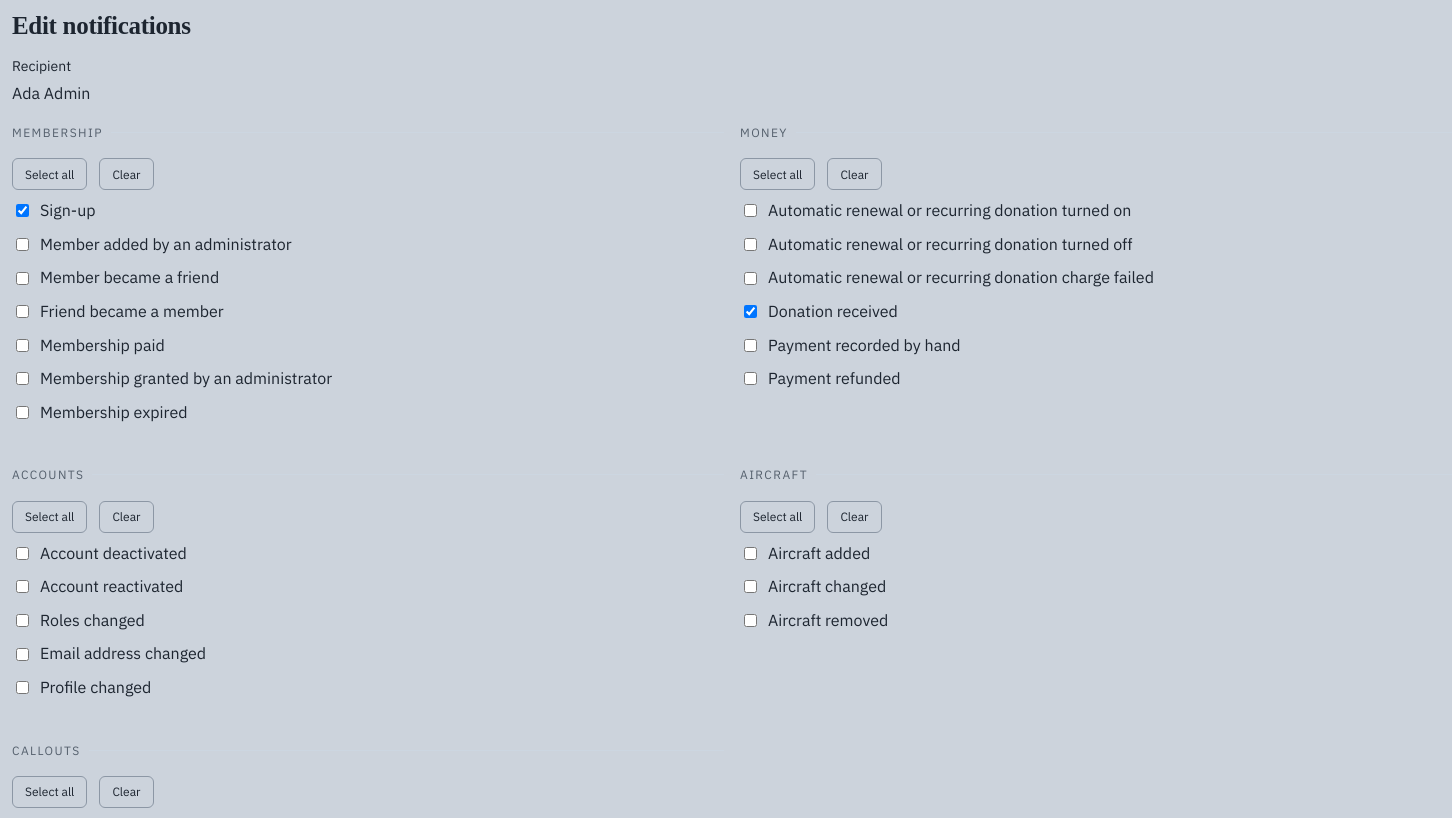
Test: NotificationSubscriptionForm › unchecks every event of one category with Clear
Expected: the checkbox labelled "Sign-up" is shown, [16,204,29,218]
Click the button with aria-label "Clear Membership events".
click(126, 174)  # box [99,158,154,190]
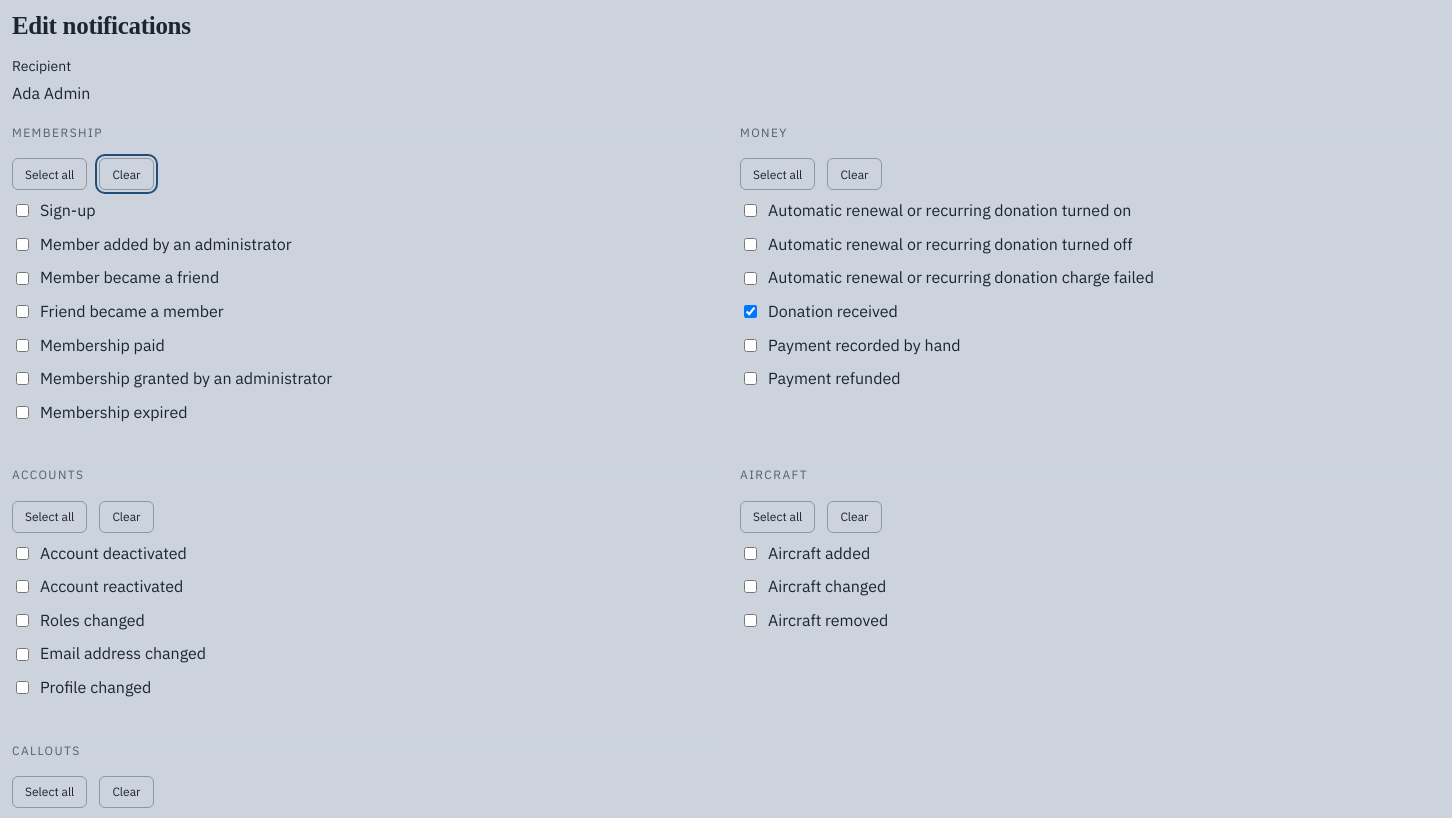
Expected: the checkbox labelled "Donation received" is checked, [744,305,757,318]
Now the checkbox labelled "Sign-up" is not checked, box [16,204,29,218]
